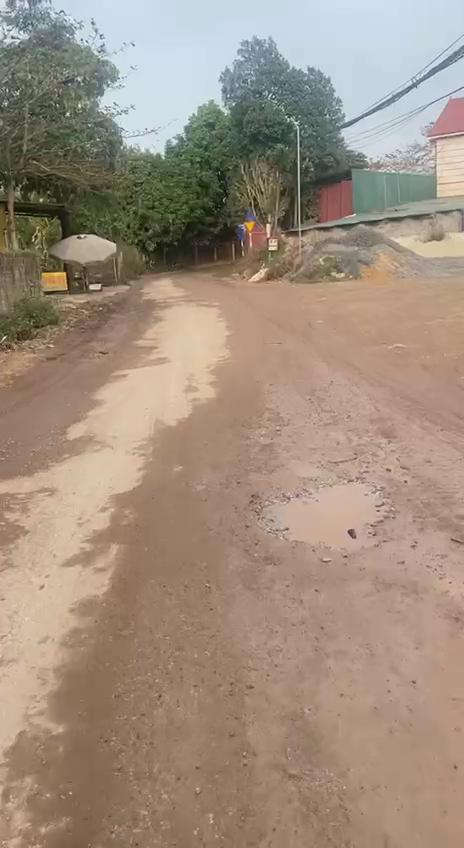pothole: (254, 466, 396, 558)
